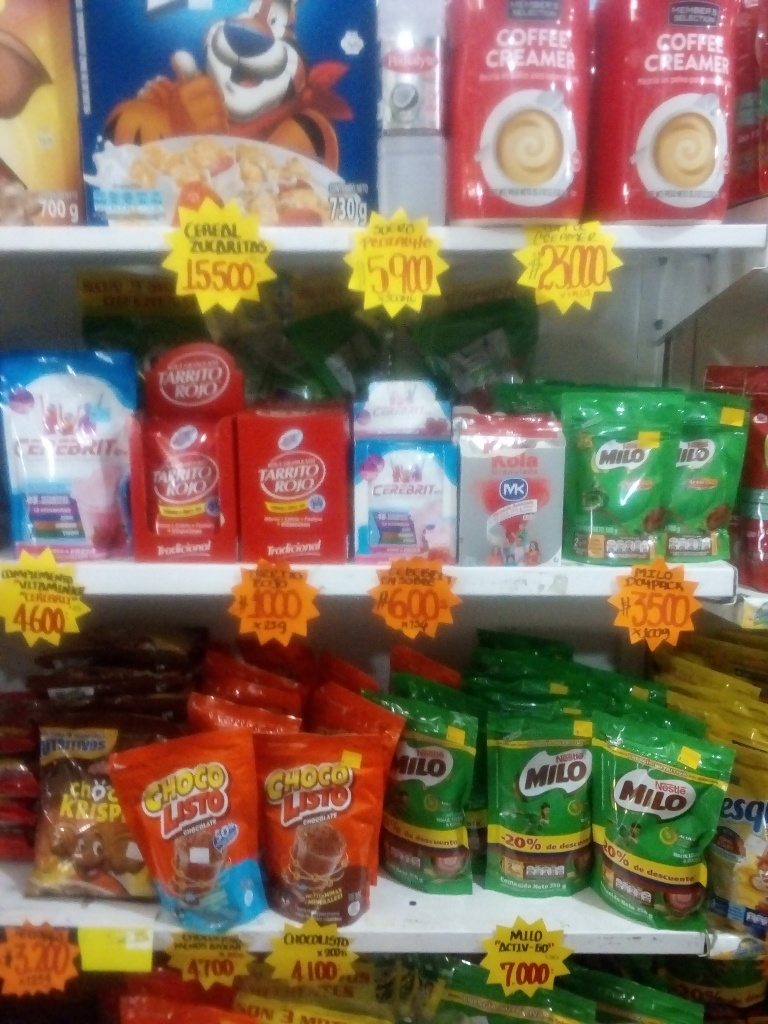COL0170104DYP20000: (111, 736, 257, 907)
COL0170203DYP10000: (560, 380, 666, 562)
COL0170306DYP20000: (713, 694, 767, 934)
